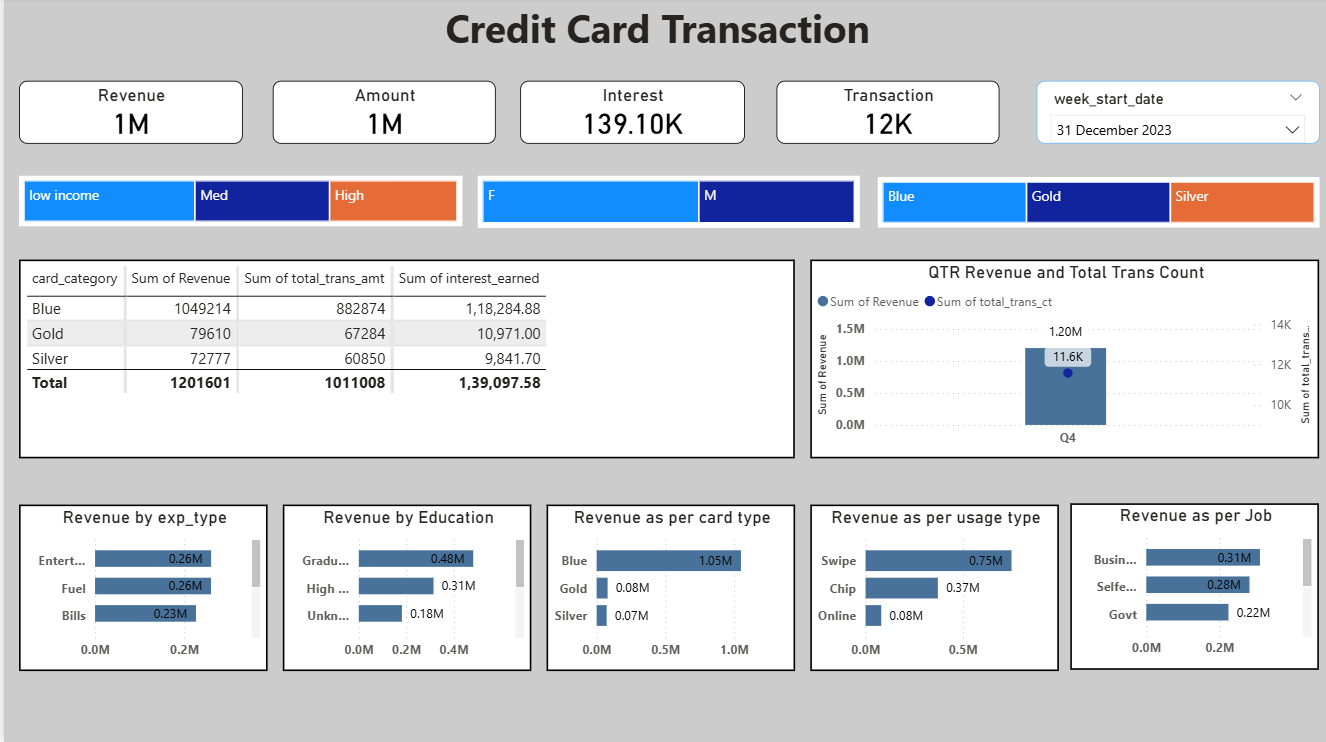

The page's visual inventory and layout, read from the dashboard file:
{"tool":"powerbi","page":{"name":"Credit Card Transaction","canvas":[1280,720],"ordinal":0},"visuals":[{"type":"textbox","box":[420.7,0,513.3,63.6],"z":0},{"type":"lineStackedColumnComboChart","title":"QTR Revenue and Total Trans Count","fields":{"Category":["public cc_detail.qtr"],"Y":["Sum(public cc_detail.Revenue)"],"Y2":["Sum(public cc_detail.total_trans_ct)"]},"box":[777.8,253,491.6,192.3],"z":1000},{"type":"barChart","title":"Revenue by exp_type","fields":{"Y":["Sum(public cc_detail.Revenue)"],"Category":["public cc_detail.exp_type"]},"box":[14.5,490.1,240,160.5],"z":2000},{"type":"barChart","title":"Revenue by Education","fields":{"Y":["Sum(public cc_detail.Revenue)"],"Category":["public cust_detail.education_level"]},"box":[268.9,490.1,240,160.5],"z":3000},{"type":"barChart","title":"Revenue as per Job","fields":{"Y":["Sum(public cc_detail.Revenue)"],"Category":["public cust_detail.customer_job"]},"box":[1029.4,488.7,240,160.5],"z":4000},{"type":"barChart","title":"Revenue as per card type","fields":{"Y":["Sum(public cc_detail.Revenue)"],"Category":["public cc_detail.card_category"]},"box":[523.4,490.1,240,160.5],"z":5000},{"type":"barChart","title":"Revenue as per usage type","fields":{"Y":["Sum(public cc_detail.Revenue)"],"Category":["public cc_detail.use_chip"]},"box":[777.8,490.1,240,160.5],"z":6000},{"type":"tableEx","fields":{"Values":["public cc_detail.card_category","Sum(public cc_detail.Revenue)","Sum(public cc_detail.total_trans_amt)","Sum(public cc_detail.interest_earned)"]},"box":[14.5,253,748.9,192.3],"z":7000},{"type":"card","title":"Revenue","fields":{"Values":["Sum(public cc_detail.Revenue)"]},"box":[14.5,81,216,60.7],"z":8000},{"type":"card","title":"Amount","fields":{"Values":["Sum(public cc_detail.total_trans_amt)"]},"box":[258.8,81,215.4,60.7],"z":9000},{"type":"card","title":"Interest","fields":{"Values":["Sum(public cc_detail.interest_earned)"]},"box":[498.8,81,216.9,60.7],"z":10000},{"type":"card","title":"Transaction","fields":{"Values":["Sum(public cc_detail.total_trans_ct)"]},"box":[746,81,215.4,60.7],"z":11000},{"type":"slicer","fields":{"Values":["public cc_detail.week_start_date"]},"box":[996.1,81,273.3,60.7],"z":12000},{"type":"treemap","fields":{"Values":["CountNonNull(public cust_detail.client_num)"],"Group":["public cust_detail.gender"]},"box":[456.9,172,368.7,50.6],"z":13000},{"type":"treemap","fields":{"Values":["CountNonNull(public cust_detail.client_num)"],"Group":["public cc_detail.card_category"]},"box":[842.9,173.5,426.5,49.2],"z":15000},{"type":"treemap","fields":{"Values":["CountNonNull(public cust_detail.client_num)"],"Group":["public cust_detail.IncomeGroup"]},"box":[14.5,172,428,49.2],"z":16000}]}

Visuals, with their boxes in screenshot pixels (x1, y1, x2, y2), scaled from the page's 1280x720 canvas onto the 1326x742 screenshot:
textbox: locate(436, 0, 968, 66)
"QTR Revenue and Total Trans Count" lineStackedColumnComboChart: locate(806, 261, 1315, 459)
"Revenue by exp_type" barChart: locate(15, 505, 264, 670)
"Revenue by Education" barChart: locate(279, 505, 527, 670)
"Revenue as per Job" barChart: locate(1066, 504, 1315, 669)
"Revenue as per card type" barChart: locate(542, 505, 791, 670)
"Revenue as per usage type" barChart: locate(806, 505, 1054, 670)
tableEx - public cc_detail.card_category x Sum(public cc_detail.Revenue): locate(15, 261, 791, 459)
"Revenue" card: locate(15, 83, 239, 146)
"Amount" card: locate(268, 83, 491, 146)
"Interest" card: locate(517, 83, 741, 146)
"Transaction" card: locate(773, 83, 996, 146)
slicer - public cc_detail.week_start_date: locate(1032, 83, 1315, 146)
treemap - CountNonNull(public cust_detail.client_num) x public cust_detail.gender: locate(473, 177, 855, 229)
treemap - CountNonNull(public cust_detail.client_num) x public cc_detail.card_category: locate(873, 179, 1315, 230)
treemap - CountNonNull(public cust_detail.client_num) x public cust_detail.IncomeGroup: locate(15, 177, 458, 228)
